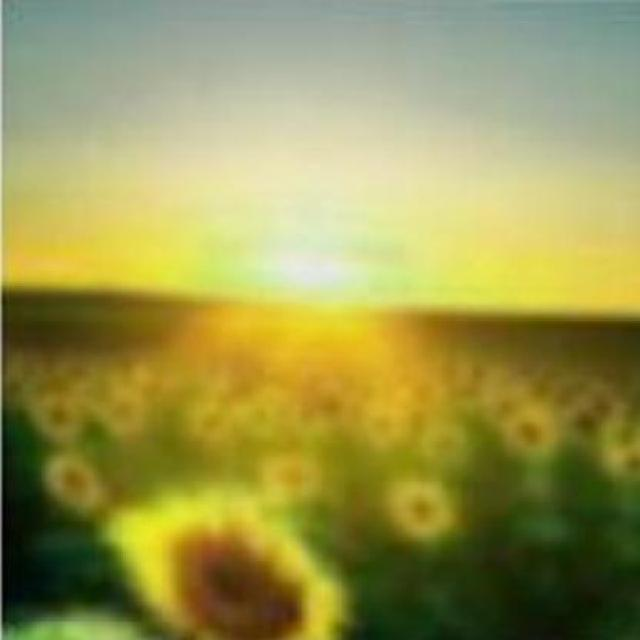sunflower: (100, 494, 358, 640)
